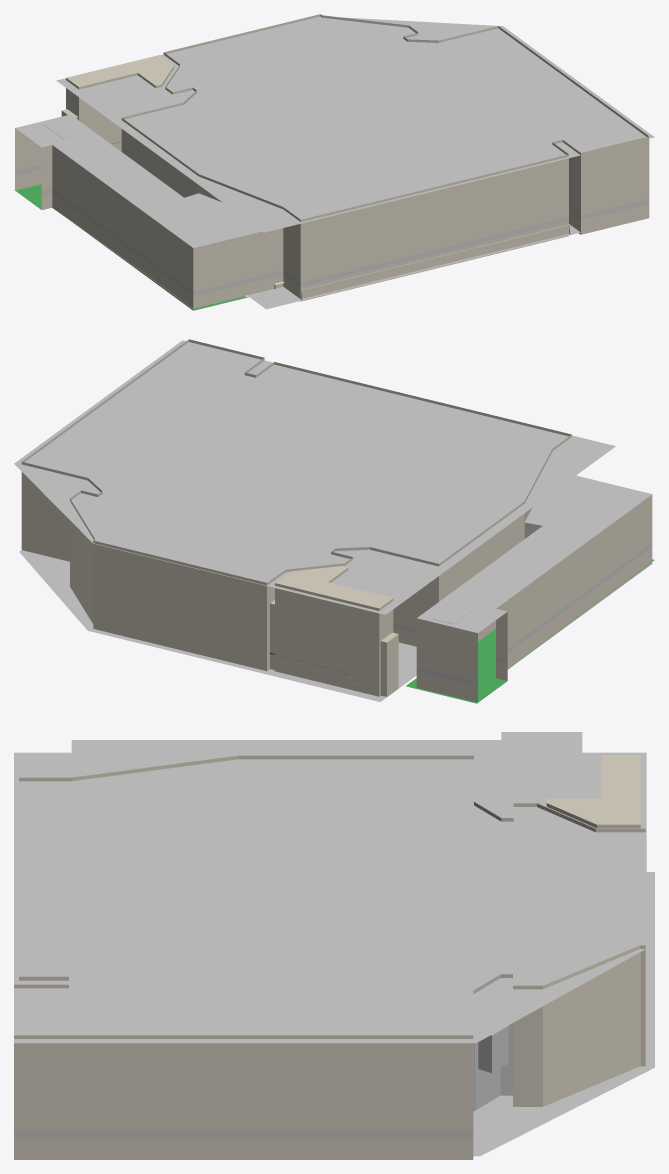
The model's file is Stage.fbx.
3 views of the same model, one above another, from view 1: azimuth 30°, elevation 25°; view 2: azimuth 150°, elevation 25°; view 3: azimuth 270°, elevation 25° (orthographic). The views are drawn at different scales.
Parts seen in each view (by area): view 1: NonBaked; view 2: NonBaked; view 3: NonBaked.
Part boxes in pixels (x1,y1,x2,y2): NonBaked: (14, 14, 654, 310); NonBaked: (14, 339, 654, 703); NonBaked: (14, 732, 654, 1159).
Size of the model in its own units: 1434 by 248 by 1154.
